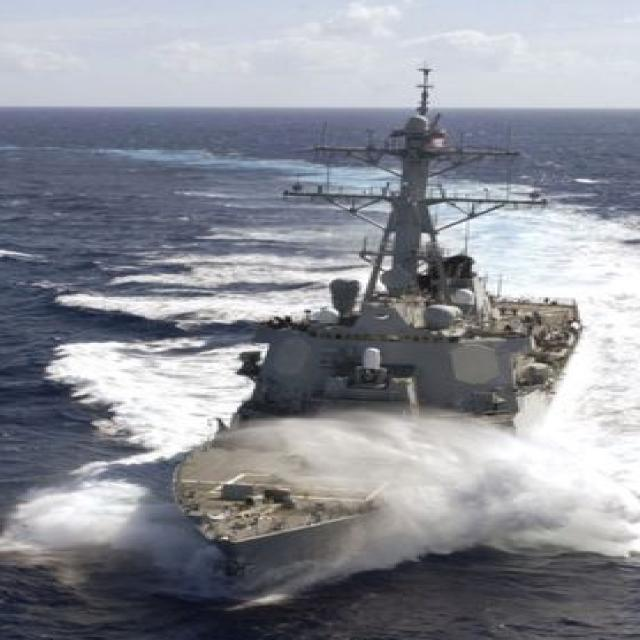navalvessels: (130, 103, 630, 592)
